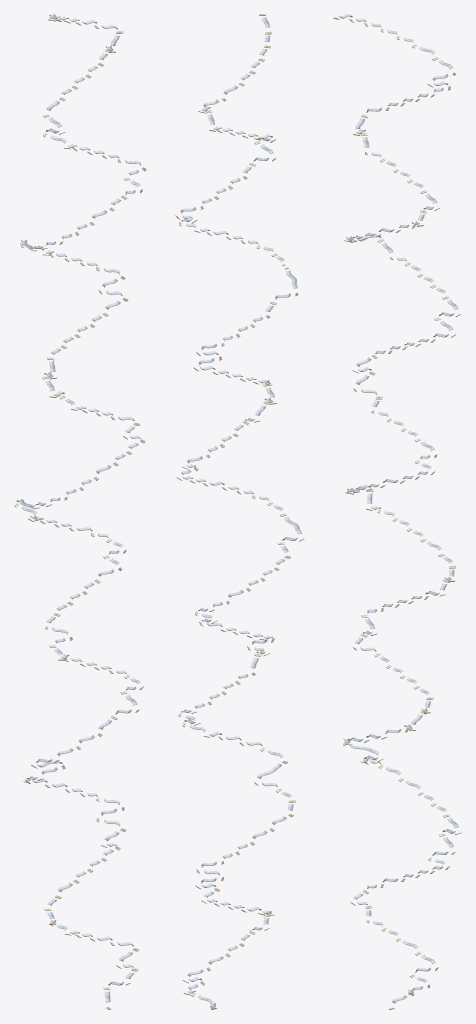
File: C-route-v027-03.glb
3 views of the same model, side by side, from view 1: azimuth 30°, elevation 25°; view 2: azimuth 210°, elevation 25°; view 3: azimuth 330°, elevation 25° (orthographic). The views are drawn at different scales.
Size of the model in its own units: 0.4242 by 3.83 by 0.3093.
5 materials, 1 textured.
